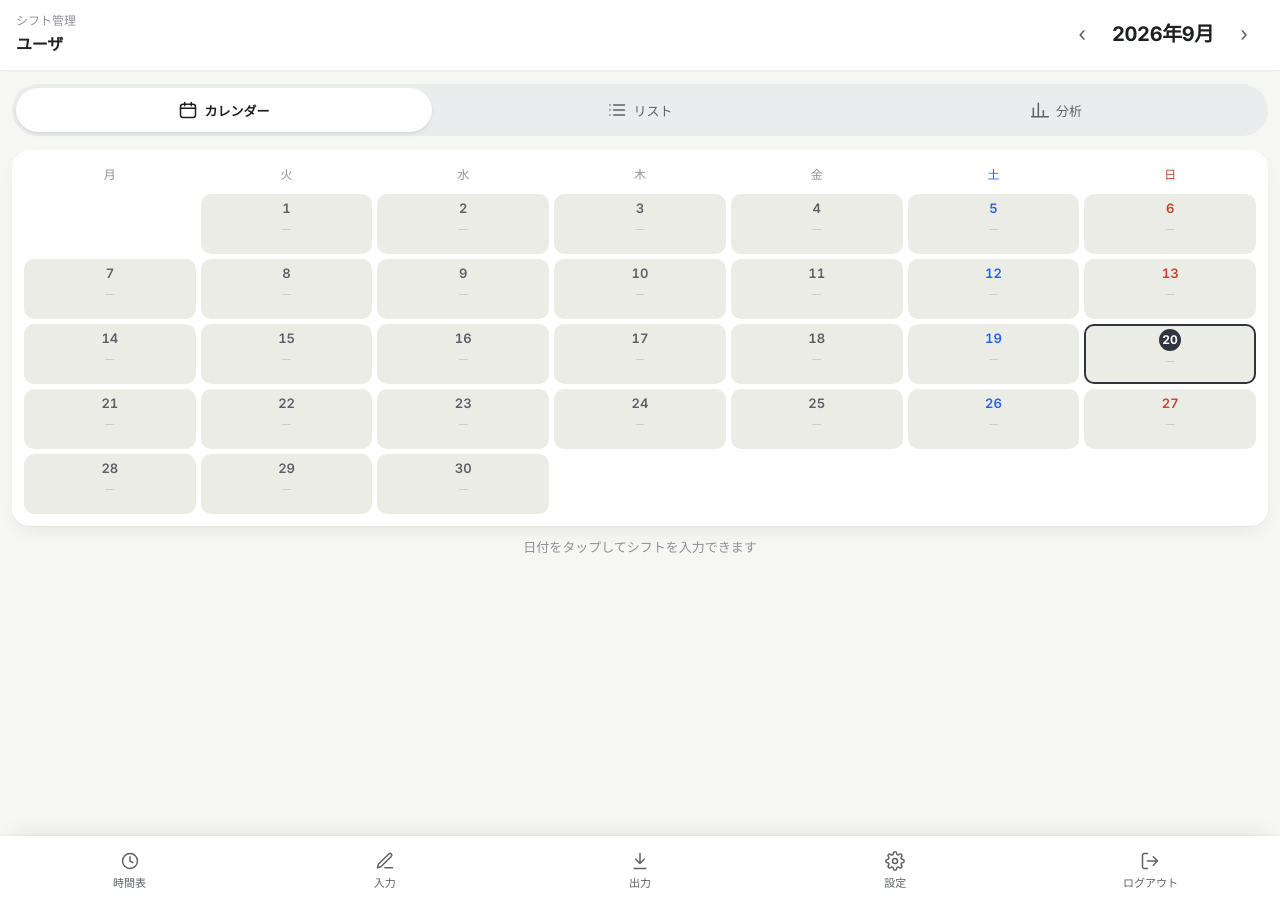
App コンポーネント › 日付をタップするとシフト選択ポップアップが開く
Step 1. Click the text "1" → point(286, 209), box [282,199,291,218]
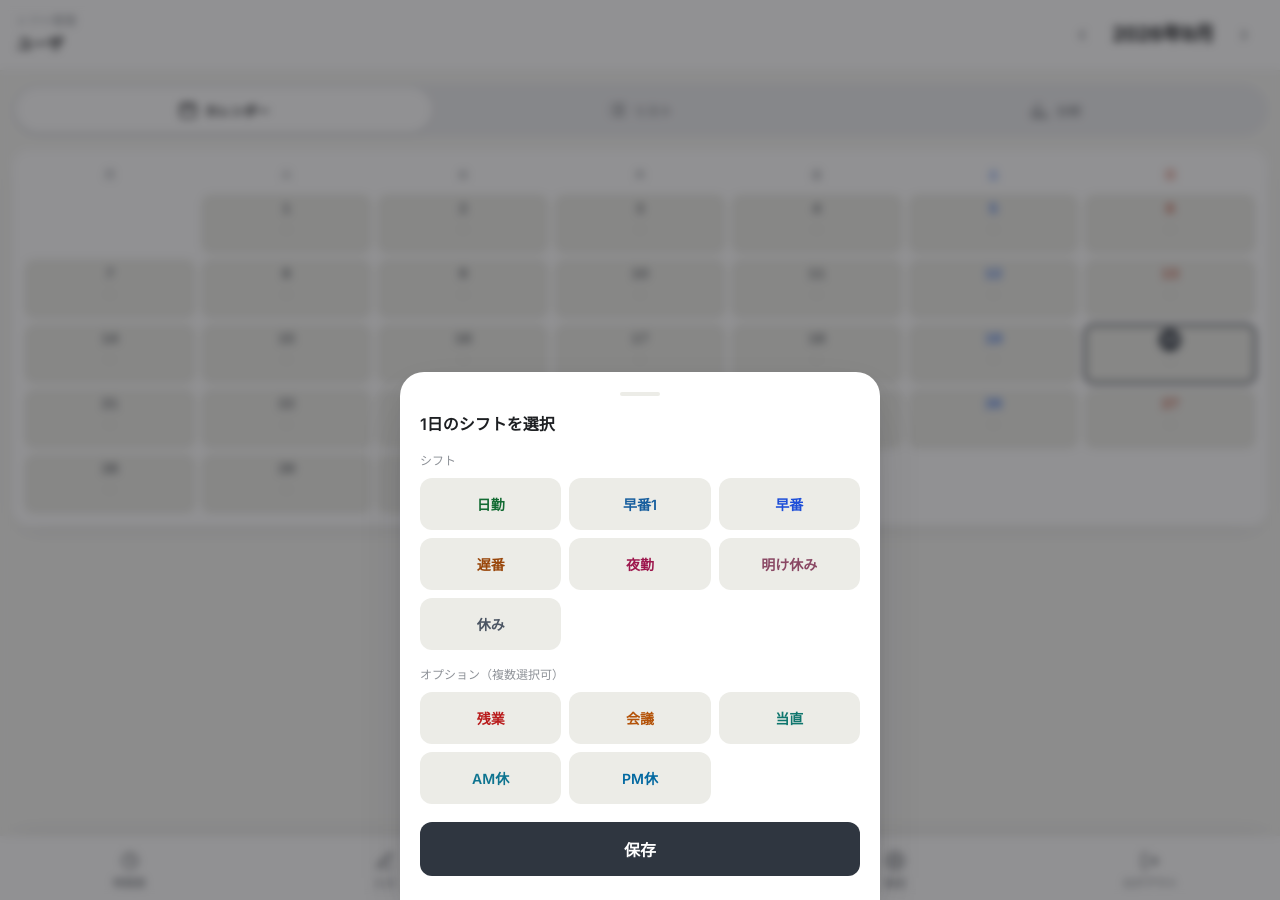
Now the text "1日のシフトを選択" is shown, box [420,414,555,434]
